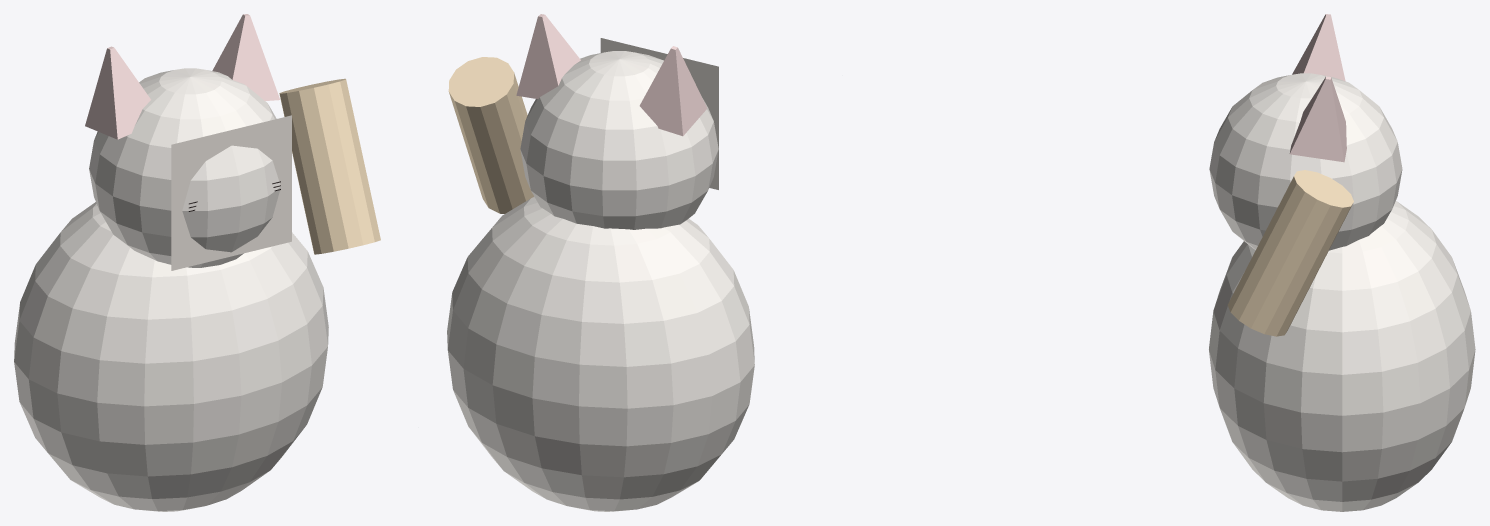
Rendered from cat_6tou_3d.glb.
3 views of the same model, side by side, from view 1: azimuth 30°, elevation 25°; view 2: azimuth 150°, elevation 25°; view 3: azimuth 270°, elevation 25° (orthographic). The views are drawn at different scales.
Parts seen in each view (by area): view 1: cat_body, cat_head, cat_paw, cat_face, cat_ear_0, cat_ear_1; view 2: cat_body, cat_head, cat_paw, cat_ear_0, cat_ear_1, cat_face; view 3: cat_body, cat_head, cat_paw, cat_ear_1, cat_ear_0.
Part boxes in pixels (<box>): cat_body: <box>14,202,328,511</box>; cat_head: <box>89,68,280,267</box>; cat_paw: <box>279,78,380,254</box>; cat_face: <box>171,115,291,270</box>; cat_ear_0: <box>85,46,150,139</box>; cat_ear_1: <box>212,14,279,100</box>; cat_body: <box>447,196,754,511</box>; cat_head: <box>520,51,718,229</box>; cat_paw: <box>448,57,533,213</box>; cat_ear_0: <box>639,46,707,136</box>; cat_ear_1: <box>516,14,580,98</box>; cat_face: <box>600,38,718,189</box>; cat_body: <box>1209,201,1475,511</box>; cat_head: <box>1209,73,1402,250</box>; cat_paw: <box>1227,170,1353,336</box>; cat_ear_1: <box>1289,76,1346,162</box>; cat_ear_0: <box>1292,14,1345,81</box>.
Bounding box in the file's own units: 0.5536 × 0.8281 × 1.
Materials: 10 (3 with a texture image).
